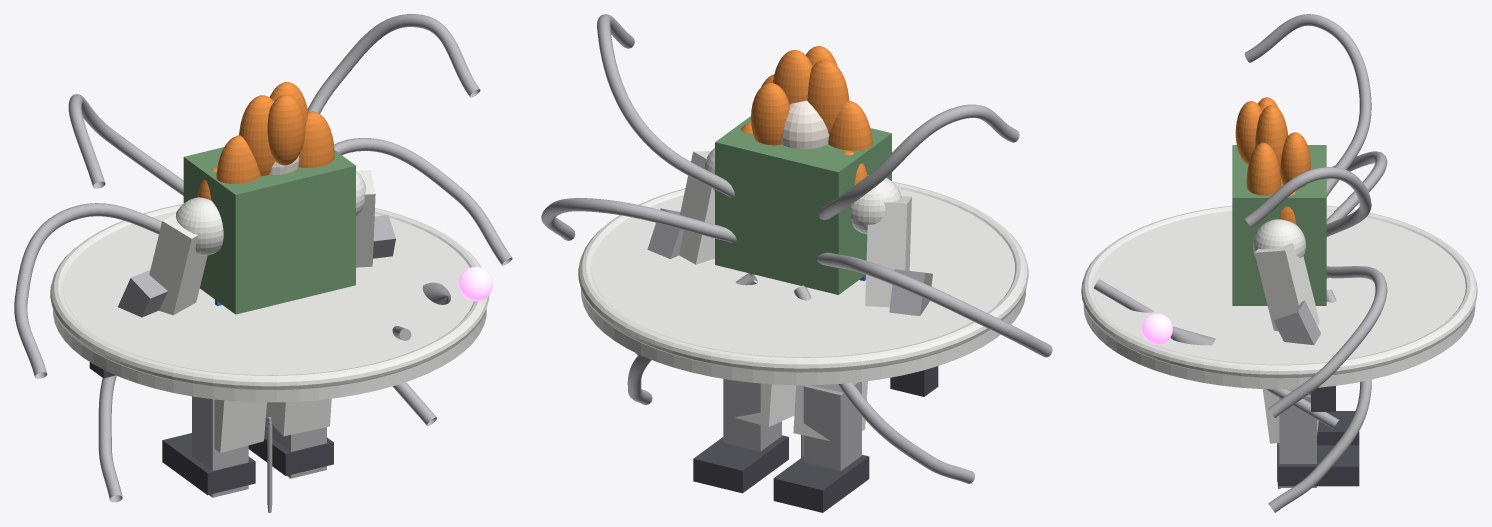
The model's file is Net_Custom.glb.
3 views of the same model, side by side, from view 1: azimuth 30°, elevation 25°; view 2: azimuth 150°, elevation 25°; view 3: azimuth 270°, elevation 25° (orthographic). The views are drawn at different scales.
Parts seen in each view (by area): view 1: Dish, Torso, DishRim, Tent_ML, ArmLU, Tent_UR, Tent_UL, Tent_MR, FootL, ThighL, ShinL, Hair_4 (+13 smaller); view 2: Dish, Torso, DishRim, ShinL, Tent_UR, FootL, FootR, Tent_ML, Tent_UL, ArmLU, Tent_MR, ShinR (+14 smaller); view 3: Dish, DishRim, Torso, Tent_UL, ArmRU, Tent_MR, Tent_UR, Tent_LR, FootR, ShinR, Hair_2, ArmRL (+11 smaller).
Boxes of the visible parts, x1=… form: Dish: x1=53, y1=211, x2=486, y2=402; Torso: x1=183, y1=147, x2=355, y2=314; DishRim: x1=50, y1=204, x2=489, y2=389; Tent_ML: x1=14, y1=203, x2=161, y2=378; ArmLU: x1=149, y1=213, x2=207, y2=315; Tent_UR: x1=307, y1=14, x2=480, y2=113; Tent_UL: x1=68, y1=94, x2=183, y2=195; Tent_MR: x1=334, y1=138, x2=512, y2=265; FootL: x1=162, y1=433, x2=255, y2=495; ThighL: x1=214, y1=399, x2=266, y2=452; ShinL: x1=192, y1=396, x2=248, y2=497; Hair_4: x1=267, y1=94, x2=305, y2=165; Dish: x1=581, y1=189, x2=1025, y2=385; Torso: x1=715, y1=116, x2=891, y2=294; DishRim: x1=578, y1=181, x2=1028, y2=372; ShinL: x1=803, y1=382, x2=861, y2=471; Tent_UR: x1=597, y1=14, x2=734, y2=197; FootL: x1=773, y1=455, x2=869, y2=512; FootR: x1=693, y1=435, x2=788, y2=493; Tent_ML: x1=817, y1=252, x2=1052, y2=357; Tent_UL: x1=818, y1=104, x2=1019, y2=219; ArmLU: x1=865, y1=196, x2=911, y2=307; Tent_MR: x1=541, y1=198, x2=736, y2=242; ShinR: x1=723, y1=379, x2=781, y2=451; Dish: x1=1083, y1=210, x2=1475, y2=389; DishRim: x1=1081, y1=205, x2=1477, y2=378; Torso: x1=1232, y1=145, x2=1326, y2=305; Tent_UL: x1=1244, y1=14, x2=1371, y2=196; ArmRU: x1=1254, y1=242, x2=1319, y2=331; Tent_MR: x1=1268, y1=266, x2=1387, y2=417; Tent_UR: x1=1245, y1=167, x2=1371, y2=236; Tent_LR: x1=1268, y1=289, x2=1371, y2=512; FootR: x1=1278, y1=445, x2=1359, y2=486; ShinR: x1=1279, y1=397, x2=1316, y2=487; Hair_2: x1=1246, y1=142, x2=1280, y2=195; ArmRL: x1=1273, y1=300, x2=1320, y2=395.
Size of the model in its own units: 3.17 by 2.79 by 2.53.
